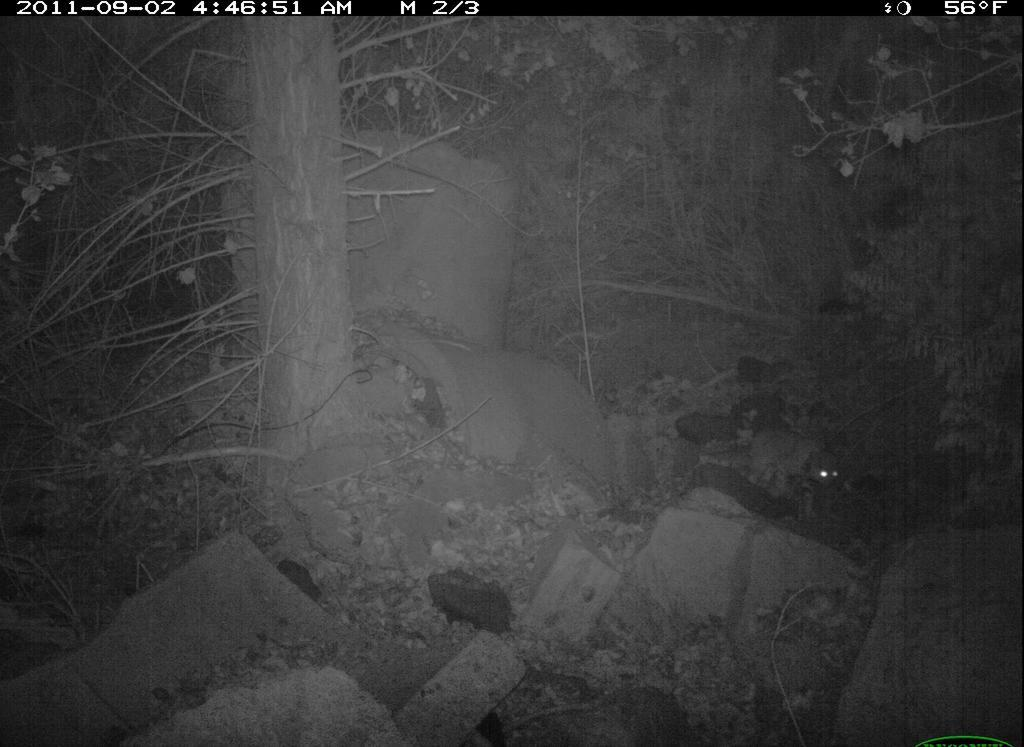bobcat: (726, 415, 848, 513)
